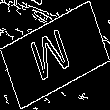M_SE: (31, 22, 79, 88)
